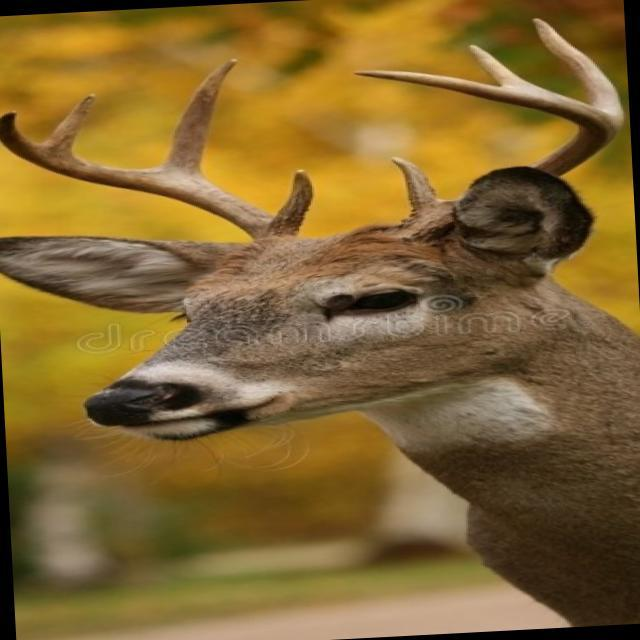L-G1: (385, 156, 440, 214)
L-G2: (529, 17, 625, 116)
L-G3: (467, 43, 539, 87)
R-F: (0, 110, 303, 243)
R-G1: (273, 169, 316, 226)
R-G2: (153, 57, 240, 178)
R-G3: (41, 93, 99, 151)
